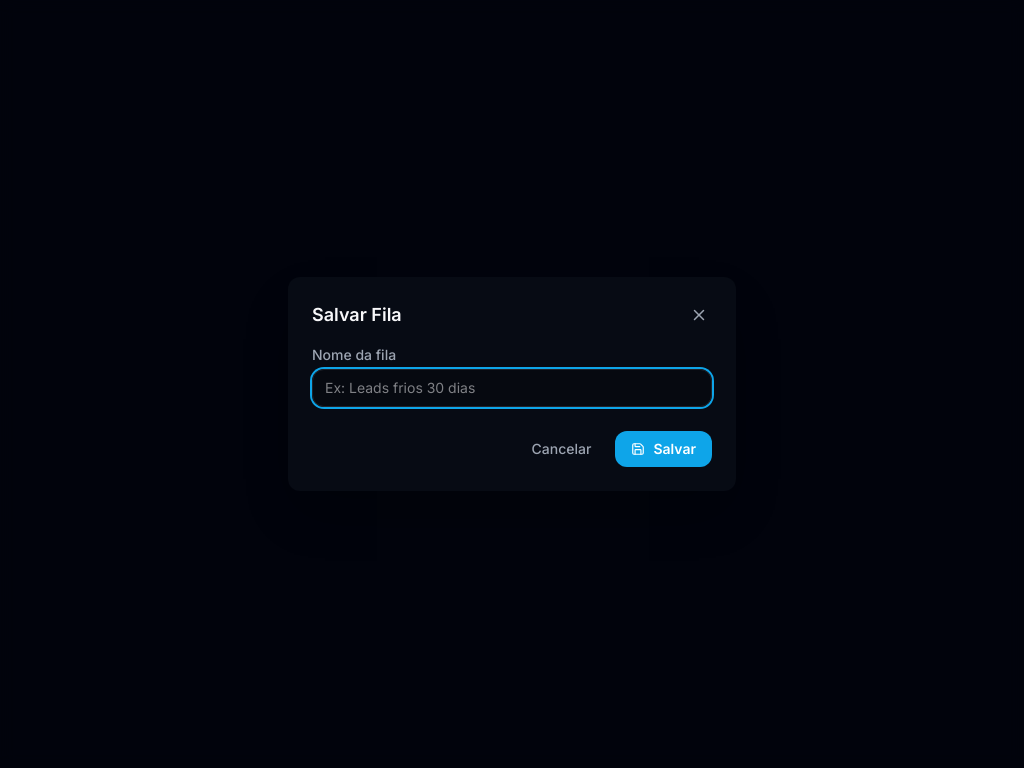
Test: SaveQueueModal › shows validation error for empty name
Click the button "Salvar".
click(664, 449)  # box [615, 431, 712, 467]
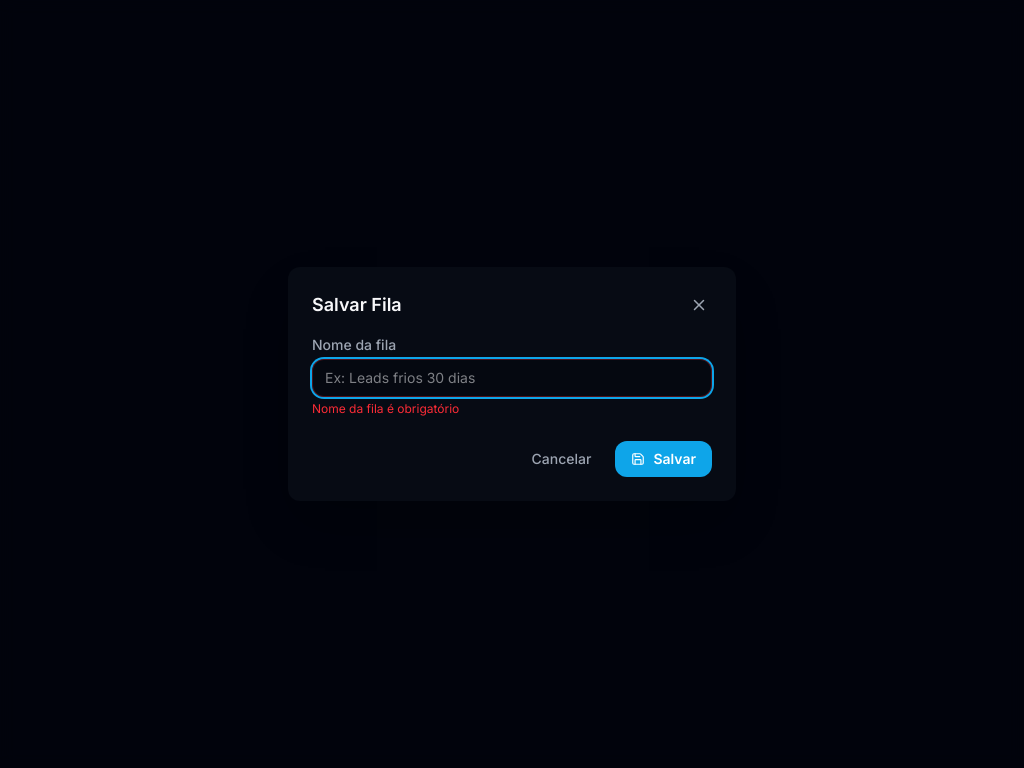
Result: the text "Nome da fila é obrigatório" is shown at [312, 401, 459, 416]
